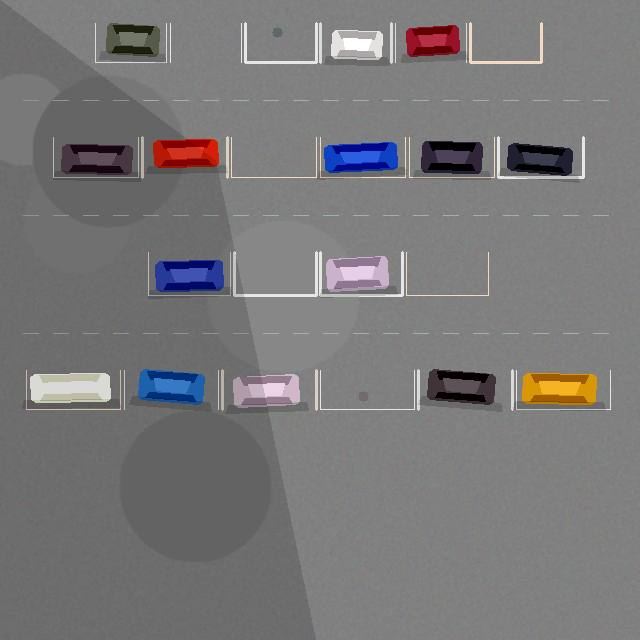space-empty: (320, 370, 414, 409), (234, 252, 316, 295), (406, 252, 488, 295), (231, 137, 316, 177), (170, 23, 241, 62), (245, 23, 316, 62), (470, 23, 541, 62)
space-occupied: (26, 370, 120, 409), (124, 370, 218, 409), (222, 370, 316, 409), (418, 370, 512, 409), (516, 370, 610, 409), (148, 252, 230, 295), (320, 252, 402, 295), (53, 137, 138, 177), (142, 137, 227, 177), (320, 137, 405, 177), (409, 137, 494, 177), (498, 137, 583, 177), (95, 23, 166, 62), (320, 23, 391, 62), (395, 23, 466, 62)
